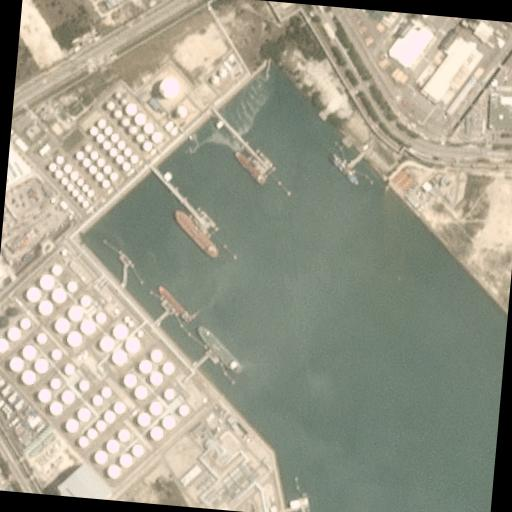ship: (168, 208, 221, 258), (193, 324, 244, 374), (152, 283, 192, 323), (230, 149, 267, 185), (329, 153, 359, 182)
